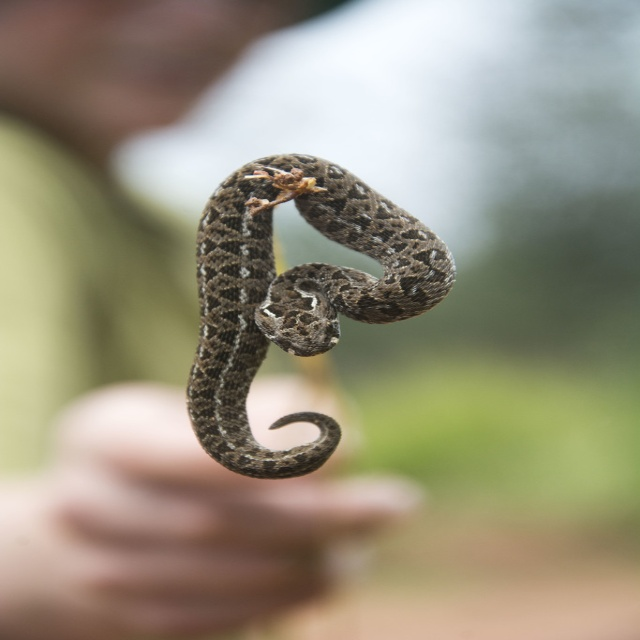Snake: (166, 150, 444, 499)
